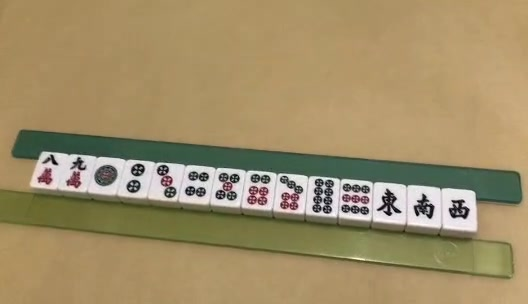1p: (93, 165, 118, 187)
1z: (376, 188, 402, 219)
2p: (127, 164, 144, 192)
2z: (414, 192, 435, 220)
3p: (156, 164, 176, 197)
3z: (448, 198, 470, 220)
4p: (185, 172, 208, 198)
5p: (216, 174, 239, 200)
6p: (249, 174, 271, 205)
7p: (279, 175, 304, 210)
8m: (37, 155, 58, 184)
8p: (312, 178, 334, 215)
9m: (66, 156, 88, 191)
9p: (343, 183, 368, 216)
